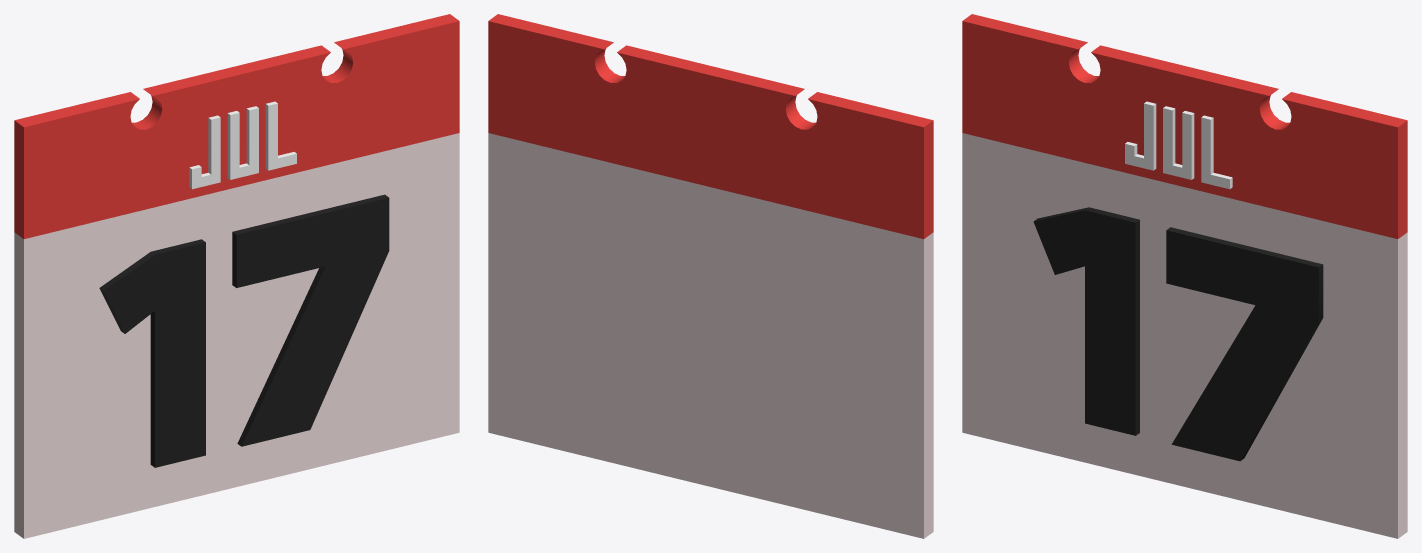
Rendered from calendar.glb.
3 renders of one model, left to right at view 1: azimuth 30°, elevation 25°; view 2: azimuth 150°, elevation 25°; view 3: azimuth 330°, elevation 25°, orthographic.
Parts seen in each view (by area): view 1: Circle.2565; view 2: Circle.2565; view 3: Circle.2565.
Boxes of the visible parts, x1,y1,x2,y2 form: Circle.2565: (14, 14, 459, 538); Circle.2565: (488, 14, 933, 538); Circle.2565: (962, 14, 1407, 538).
Size of the model in its own units: 2.33 by 2.1 by 0.1289.
1 material, 1 textured.
